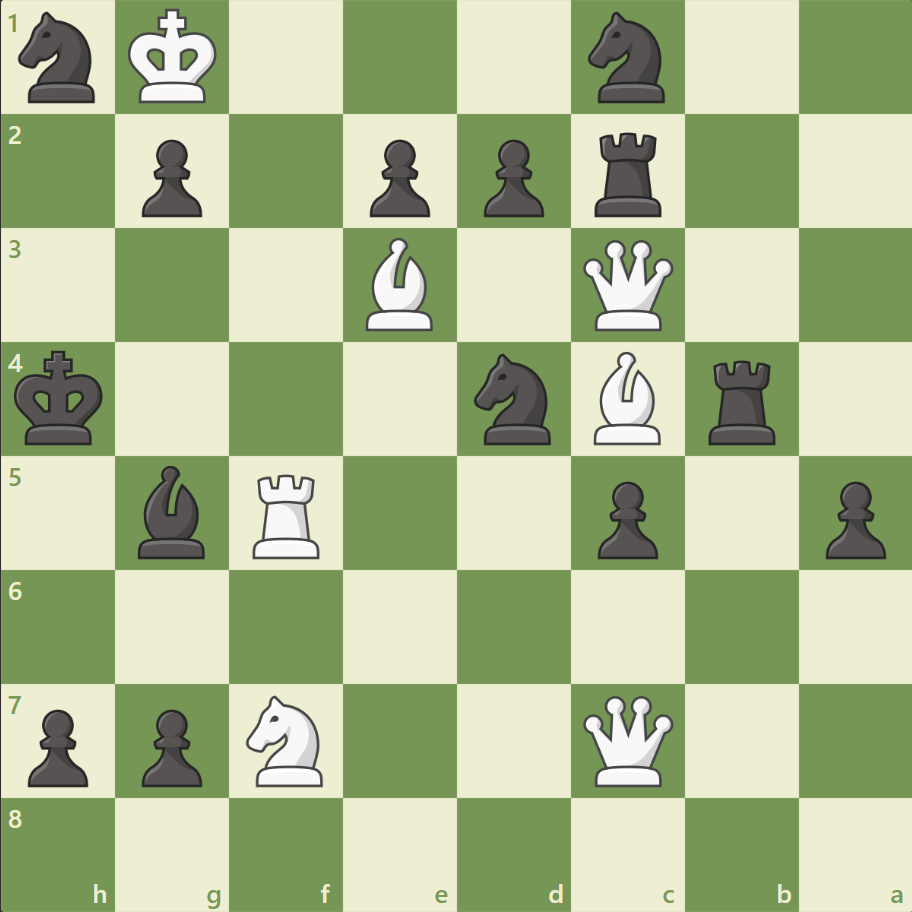B: (358, 233, 442, 336), (585, 347, 669, 449)
K: (124, 4, 224, 112)
N: (238, 688, 335, 791)
Q: (578, 690, 677, 789), (578, 236, 677, 335)
R: (246, 466, 329, 563)
b: (131, 460, 215, 563)
k: (11, 344, 111, 452)
n: (579, 7, 676, 110), (11, 7, 108, 110), (465, 348, 562, 450)
p: (133, 700, 208, 791), (20, 700, 95, 791), (474, 132, 549, 223), (133, 132, 208, 223), (815, 473, 889, 564), (588, 473, 662, 564), (361, 132, 435, 223)
r: (700, 352, 783, 449), (587, 125, 670, 222)
